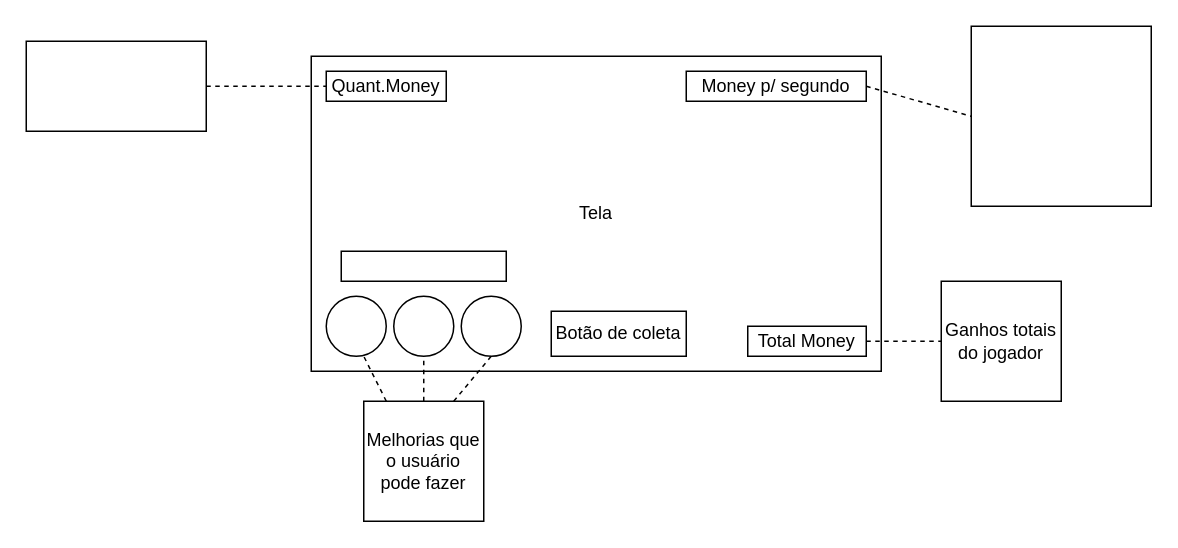
Some shapes in this 1178 by 548 pixel diagram are drawn without their labels. Each missing label, with the centre of its shape:
Botões de upgrade: the point at 423,265
Mostra a quantidade de dinheiro no banco para o usuário coletar: the point at 115,85
Mostra a quantidade de dinheiro que é gerada a cada segundo: the point at 1060,115
